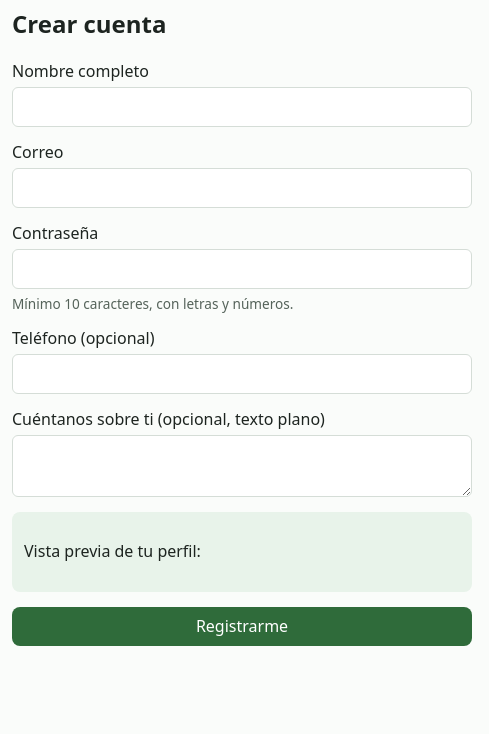
Test: Registro (A4 · autenticación) › bloquea contraseñas débiles y no guarda credenciales en localStorage
This screenshot has width=489, height=734.
Step 1. Type "Ana" into the field labelled "Nombre completo" → (242, 107), box x1=12 y1=87 x2=472 y2=127
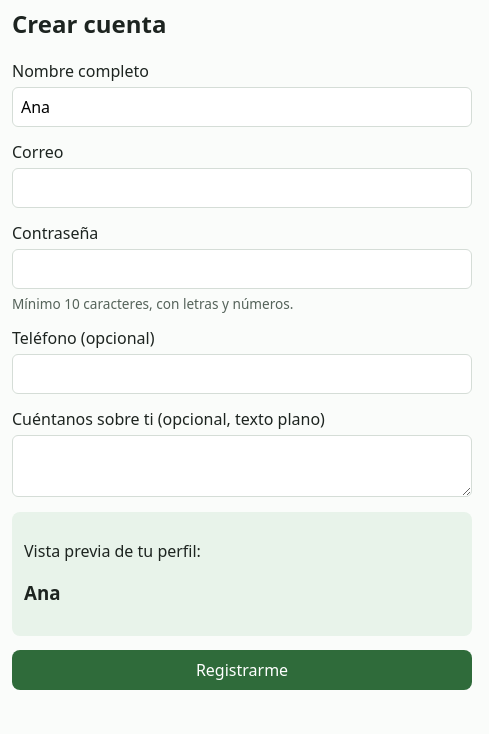
Step 2. Type "ana@ecomart.test" into the field labelled "Correo" → (242, 188), box x1=12 y1=168 x2=472 y2=208
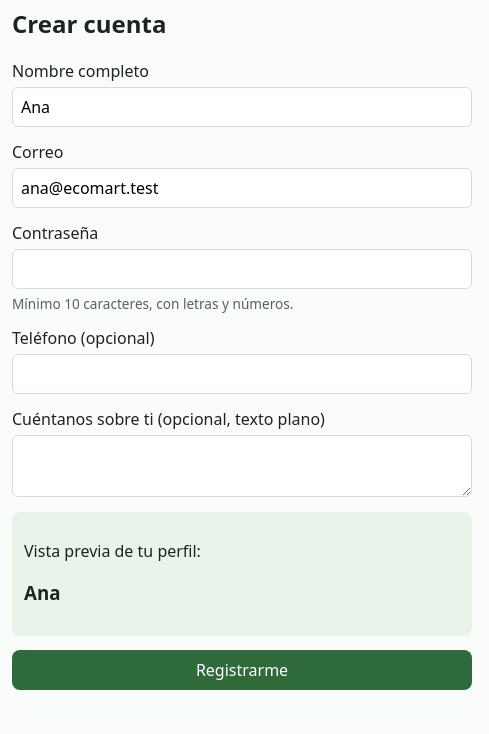
Step 3. Type "1234" into the password field labelled "Contraseña Mínimo 10 caracteres, con letras y números." → (242, 269), box x1=12 y1=249 x2=472 y2=289
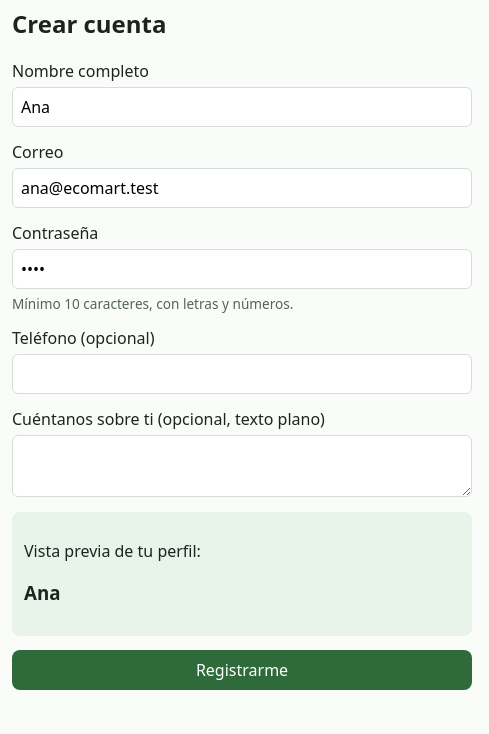
Step 4. Click the button "Registrarme" → (242, 670), box x1=12 y1=650 x2=472 y2=690
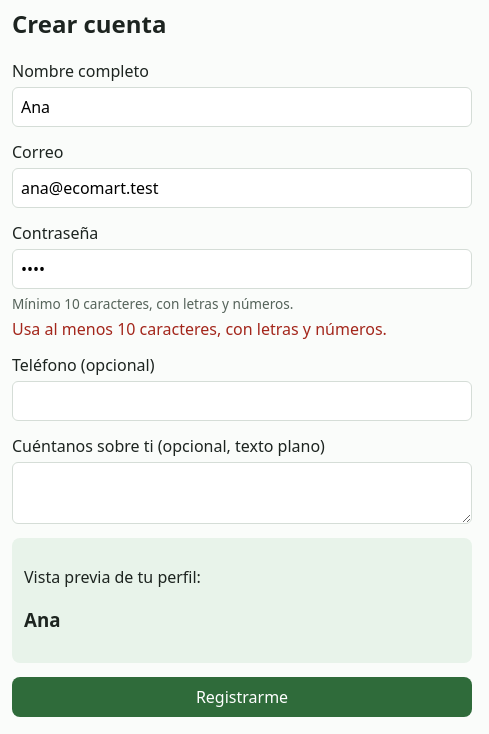
Expected: the text "Usa al menos 10 caracteres, con letras y números." is shown, x1=12 y1=318 x2=387 y2=340
